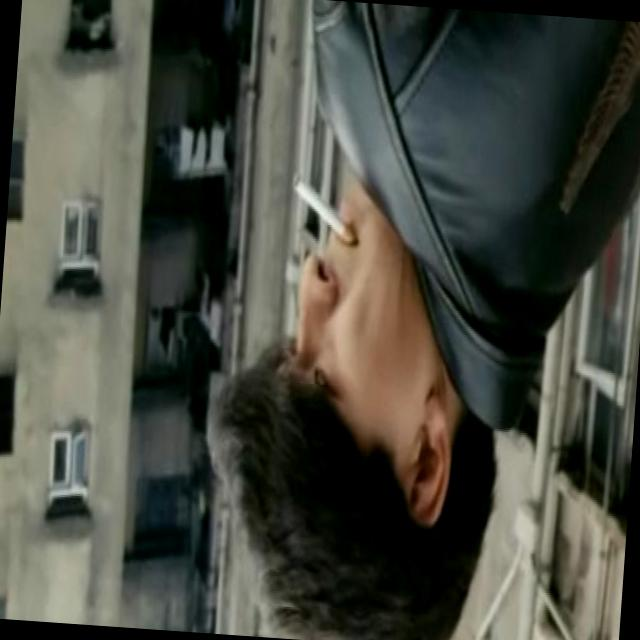smoke: (291, 177, 359, 245)
